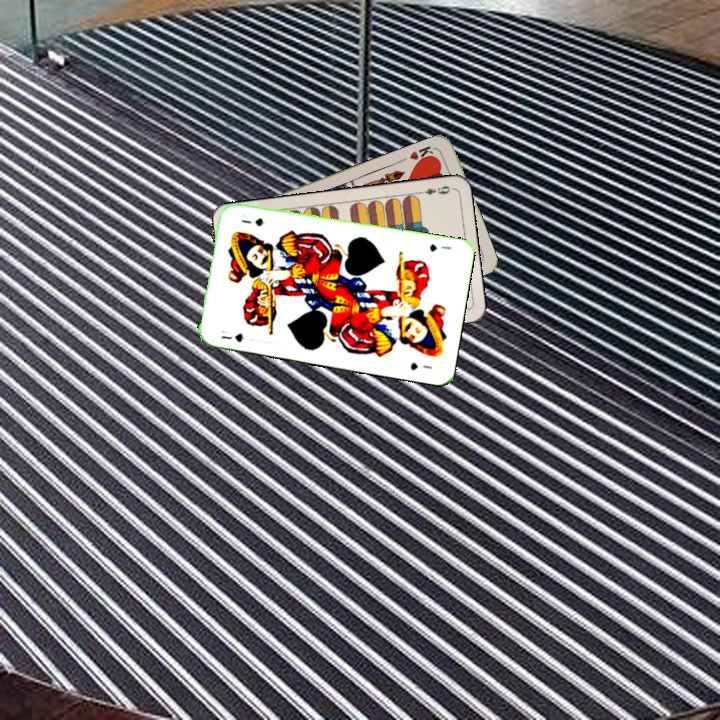E9: (414, 182, 455, 198)
GU: (217, 329, 247, 345), (425, 240, 453, 254)
HK: (405, 142, 440, 167)
